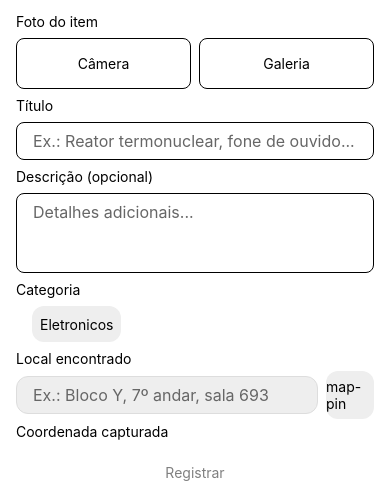
Test: FoundItemForm — preenchimento de localizacao › preenche o campo com o endereco retornado ao capturar o GPS
Expected: the field with placeholder "Ex.: Bloco Y, 7º andar, sala 693" is empty, x1=16 y1=376 x2=318 y2=414
Click the element named "use-current-location": (350, 395) x1=326 y1=371 x2=374 y2=419
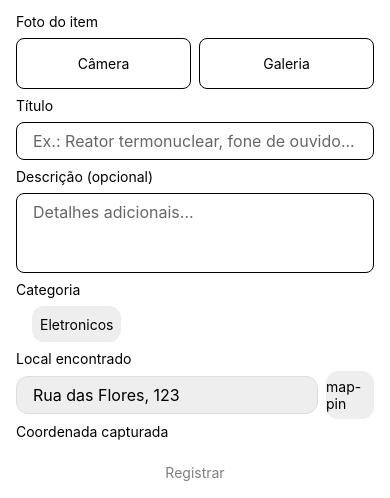
Result: the field with placeholder "Ex.: Bloco Y, 7º andar, sala 693" holds "Rua das Flores, 123" at x1=16 y1=376 x2=318 y2=414
